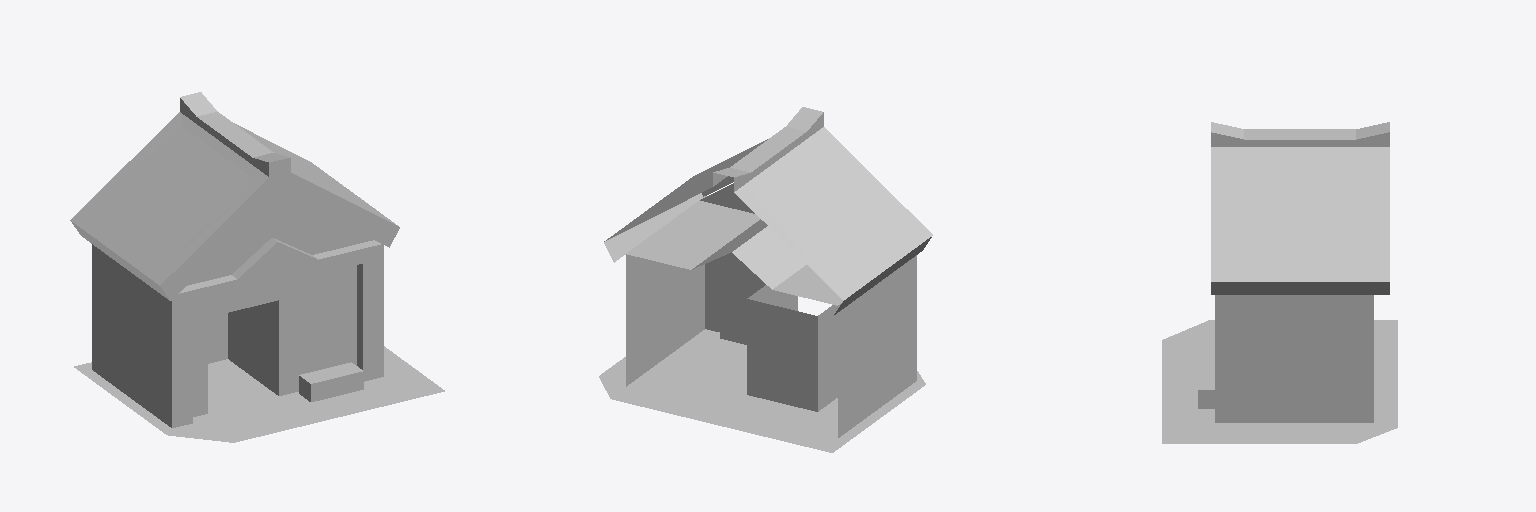
File: CianwoodCityHouse.obj
3 renders of one model, left to right at view 1: azimuth 30°, elevation 25°; view 2: azimuth 150°, elevation 25°; view 3: azimuth 270°, elevation 25°, orthographic.
Parts seen in each view (by area): view 1: polygon3, polygon1, polygon2, polygon0; view 2: polygon3, polygon1, polygon2; view 3: polygon3, polygon1.
Part boxes in pixels (left/top/right/bottom): polygon3: left=70, top=92, right=399, bottom=427; polygon1: left=74, top=346, right=444, bottom=442; polygon2: left=208, top=300, right=278, bottom=409; polygon0: left=300, top=303, right=341, bottom=345; polygon3: left=604, top=107, right=932, bottom=437; polygon1: left=599, top=329, right=925, bottom=452; polygon2: left=747, top=285, right=837, bottom=411; polygon3: left=1198, top=122, right=1389, bottom=422; polygon1: left=1162, top=320, right=1397, bottom=443.
Size of the model in its own units: 74 by 67 by 58.